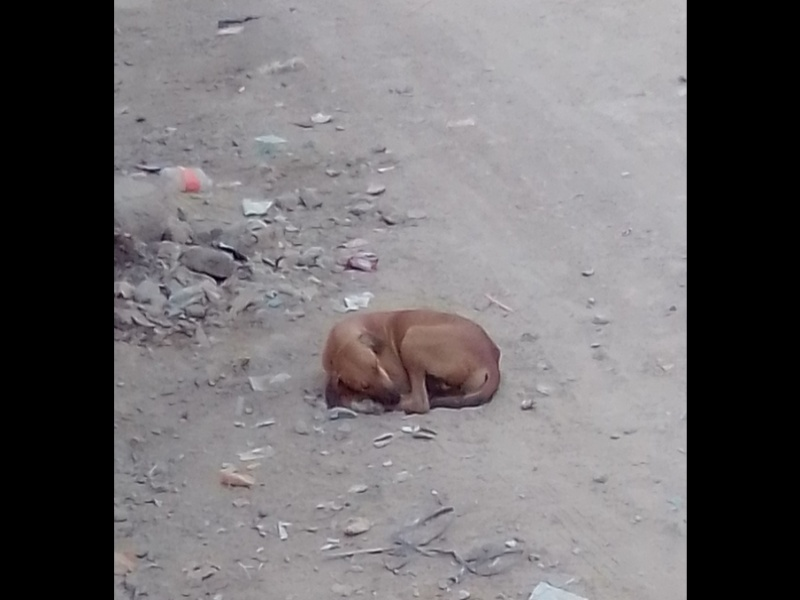dog: (324, 309, 504, 412)
